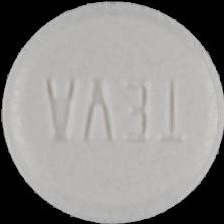70786-0752: (0, 0, 224, 224)
